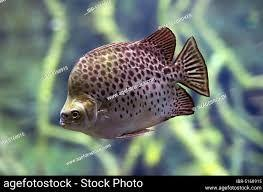Scat Fish: (58, 26, 212, 143)
